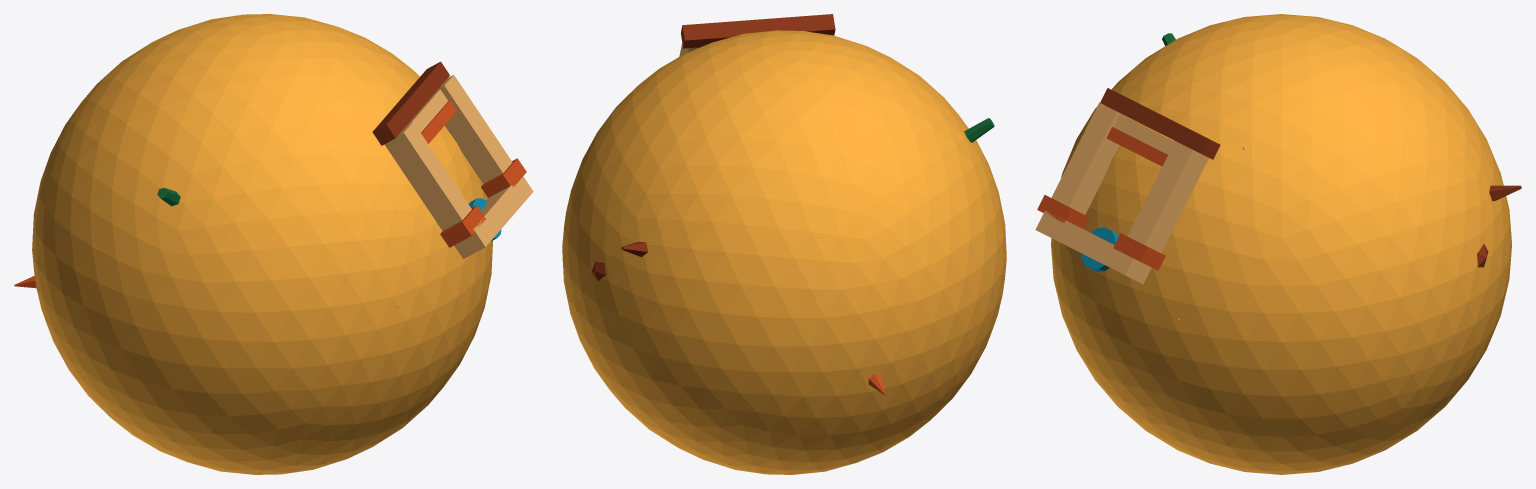
The model's file is Desert_03.fbx.
3 renders of one model, left to right at view 1: azimuth 30°, elevation 25°; view 2: azimuth 150°, elevation 25°; view 3: azimuth 270°, elevation 25°, orthographic. The views are drawn at different scales.
Visible parts, largest first — view 1: Desert_03; view 2: Desert_03; view 3: Desert_03.
Boxes of the visible parts, x1,y1,x2,y2 form: Desert_03: (14, 14, 533, 474); Desert_03: (562, 14, 1006, 474); Desert_03: (1035, 14, 1521, 474).
Size of the model in its own units: 6 by 6 by 6.33.
Materials: 1 (1 with a texture image).
